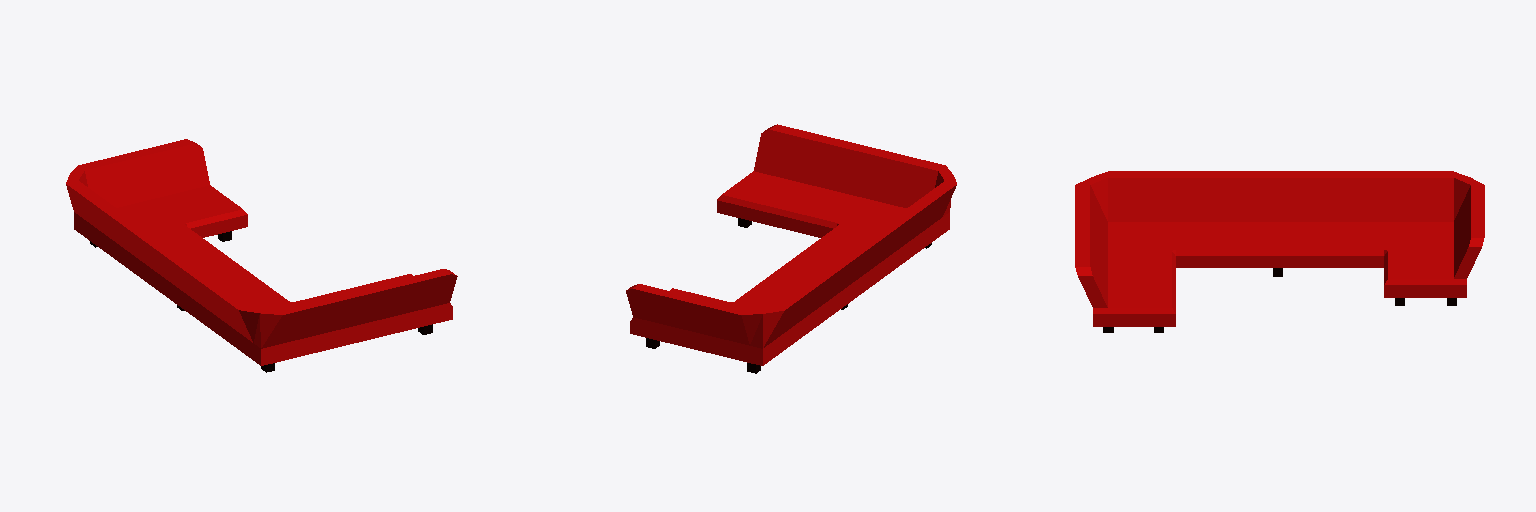
Rendered from couch.obj.
3 renders of one model, left to right at view 1: azimuth 30°, elevation 25°; view 2: azimuth 150°, elevation 25°; view 3: azimuth 270°, elevation 25°, orthographic.
Parts seen in each view (by area): view 1: Cube; view 2: Cube; view 3: Cube.
Part boxes in pixels (bbox=[...]): Cube: bbox=[66, 139, 457, 365]; Cube: bbox=[626, 124, 956, 365]; Cube: bbox=[1075, 171, 1484, 326].
Size of the model in its own units: 6.91 by 2.18 by 11.83.